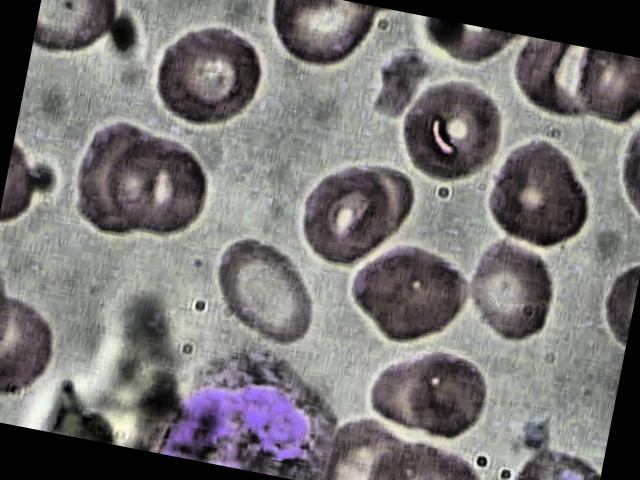RBC: (454, 220, 598, 363), (128, 7, 278, 144), (472, 124, 608, 264), (287, 149, 427, 284), (374, 62, 512, 198), (339, 232, 488, 356), (196, 227, 332, 357), (360, 339, 500, 454), (58, 102, 170, 244), (100, 130, 220, 246), (253, 0, 389, 81)
WBC: (127, 325, 377, 480)
